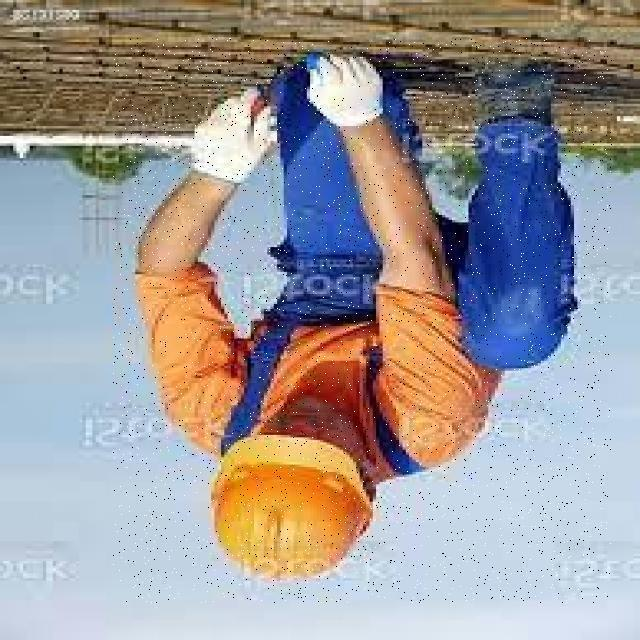gloves: (178, 87, 281, 177), (302, 51, 387, 131)
